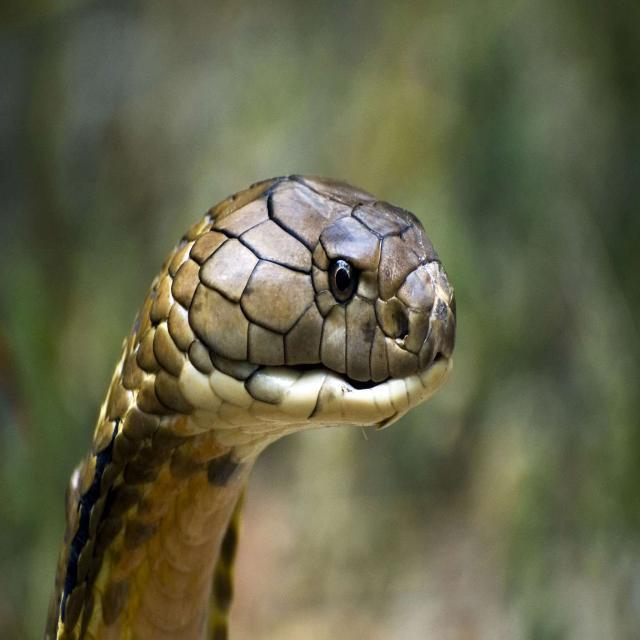Snake: (29, 159, 461, 640)
